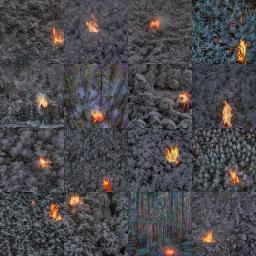Small fire: (218, 99, 235, 128), (47, 202, 65, 223), (234, 38, 249, 63), (159, 243, 185, 256), (50, 26, 66, 47), (83, 15, 102, 32), (165, 145, 180, 164), (98, 176, 115, 191), (91, 108, 106, 123), (36, 95, 50, 111), (177, 91, 192, 105), (202, 230, 216, 244), (147, 18, 163, 30), (228, 168, 239, 184), (36, 157, 51, 168), (68, 195, 80, 206)
